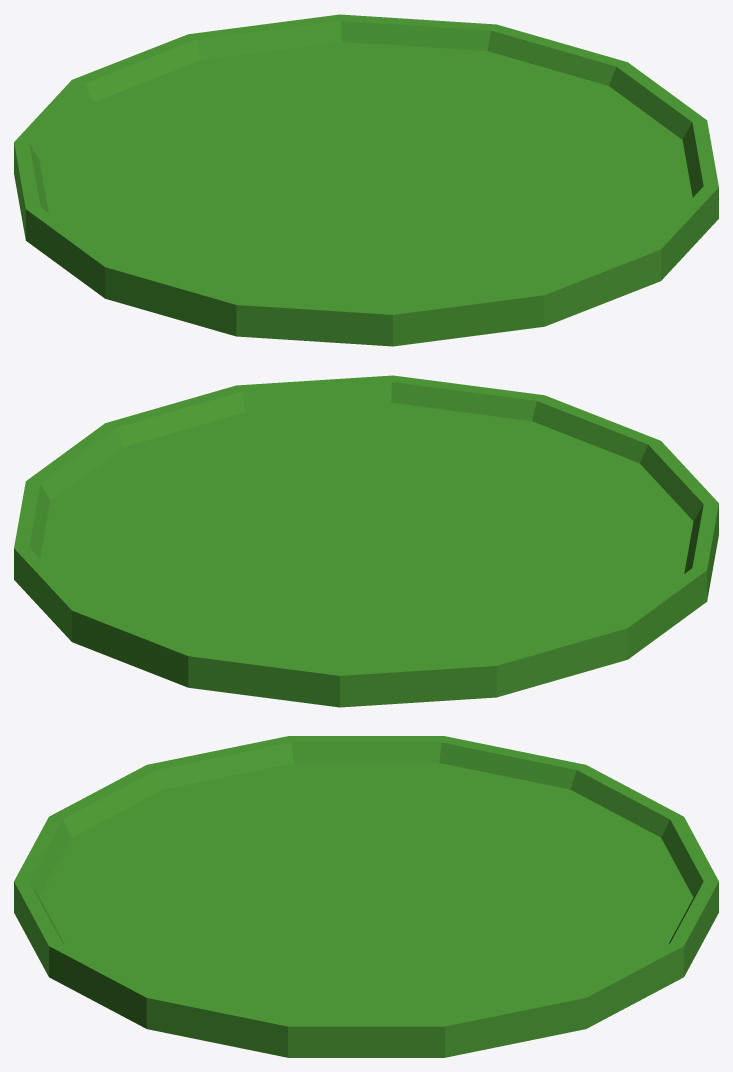
The model's file is Foliage_08.fbx.
3 views of the same model, one above another, from view 1: azimuth 30°, elevation 25°; view 2: azimuth 150°, elevation 25°; view 3: azimuth 270°, elevation 25° (orthographic).
Parts seen in each view (by area): view 1: Foliage_08; view 2: Foliage_08; view 3: Foliage_08.
Part boxes in pixels (x1,y1,x2,y2): Foliage_08: (14,14,718,346); Foliage_08: (14,375,718,707); Foliage_08: (14,736,718,1057).
Size of the model in its own units: 54.75 by 2.74 by 56.16.
